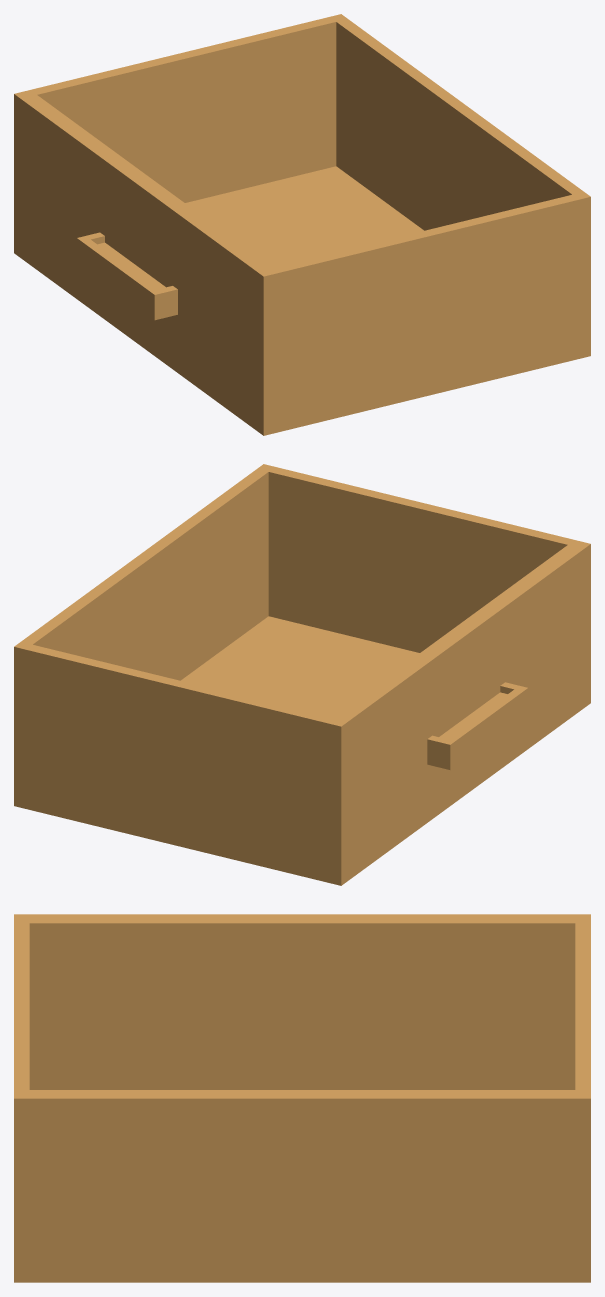
File: Table_Draw.fbx
3 views of the same model, one above another, from view 1: azimuth 30°, elevation 25°; view 2: azimuth 150°, elevation 25°; view 3: azimuth 270°, elevation 25° (orthographic). The views are drawn at different scales.
Parts seen in each view (by area): view 1: Table_Draw; view 2: Table_Draw; view 3: Table_Draw.
Part boxes in pixels (box(x1,y1,x2,y2)): Table_Draw: box(14, 14, 590, 435); Table_Draw: box(14, 464, 590, 885); Table_Draw: box(14, 914, 590, 1282).
Bounding box in the file's own units: 28.31 × 12.3 × 34.94.
